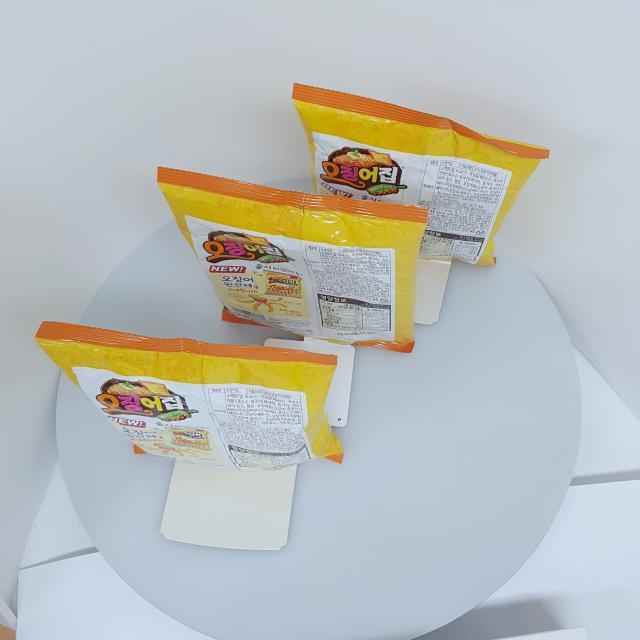-83G: (158, 167, 430, 354), (292, 84, 551, 268), (35, 322, 345, 472)
